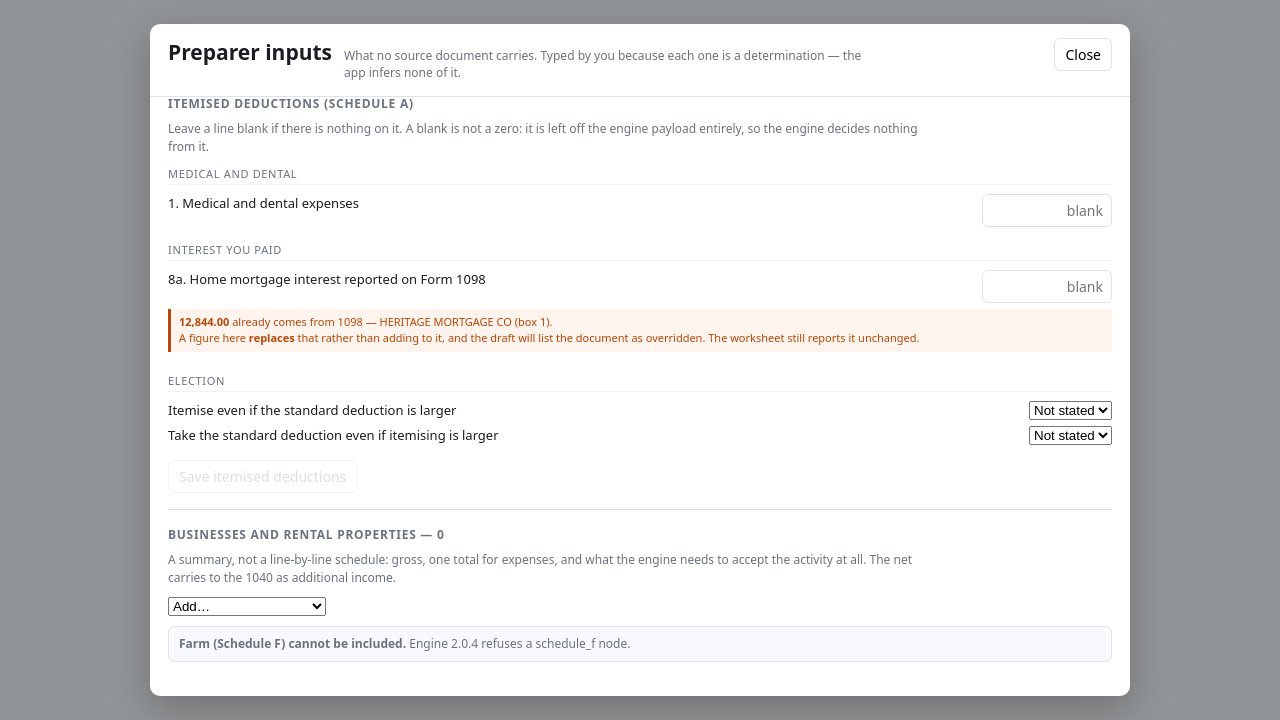
Test: a contradiction the app must not resolve › refuses to save when both deduction elections are yes, and says why
The image size is (1280, 720).
(page scrolled)
Select "Yes" in the 1st dropdown named "Itemise even if": [1070, 410] box [1029, 401, 1112, 420]
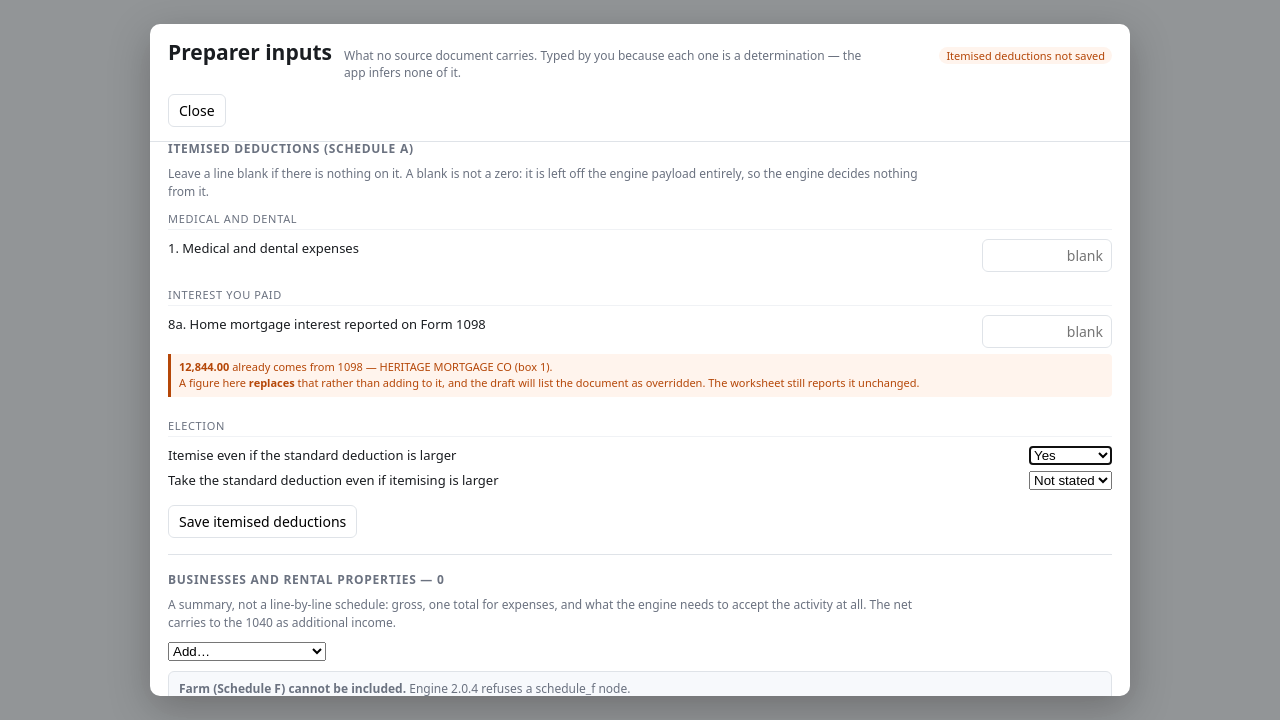
Select "Yes" in the 2nd dropdown named "Take the standard deduction even if": [1070, 480] box [1029, 471, 1112, 490]
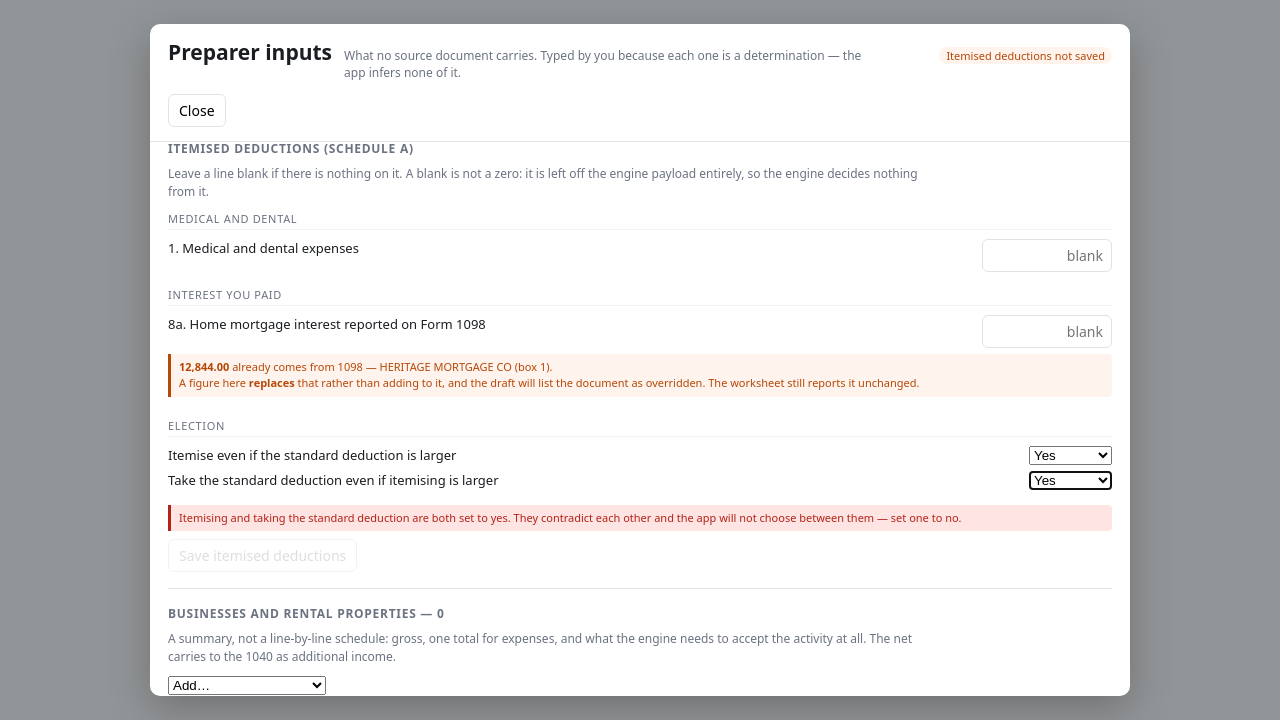
Expected: the button "Save itemised deductions" is disabled, [168, 539, 357, 572]
Expected: the text "They contradict each other" is shown, [179, 510, 962, 525]
